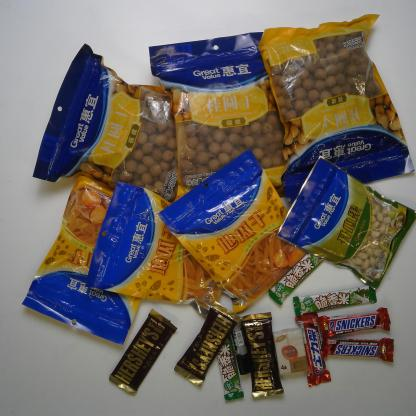Chocolate: (108, 308, 177, 396), (173, 301, 241, 387), (268, 246, 333, 305), (242, 312, 284, 399), (294, 312, 332, 388), (292, 285, 377, 316), (318, 307, 391, 337), (216, 324, 244, 402), (322, 337, 395, 362)
Dried Food: (30, 43, 207, 215), (259, 12, 414, 205), (146, 31, 300, 202)
Dried Fruit: (158, 148, 314, 315), (21, 175, 168, 345), (85, 181, 233, 320), (276, 156, 415, 289)
Stationery: (230, 327, 252, 376)
Tissue: (272, 328, 308, 378)
